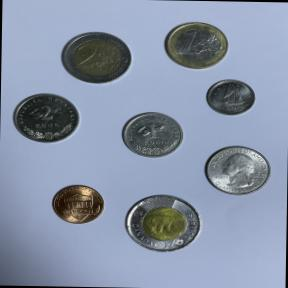coin: (120, 191, 206, 257), (56, 28, 136, 88), (200, 142, 276, 198), (10, 90, 83, 146), (160, 19, 234, 74), (47, 182, 109, 227), (202, 76, 259, 120)
